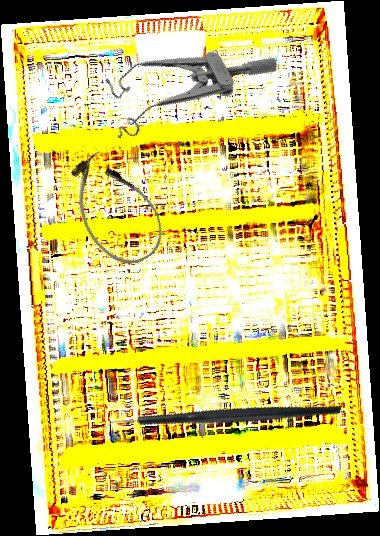Cannula: (54, 141, 176, 278)
Chopper: (99, 338, 343, 504)
Speculum: (88, 1, 282, 155)
